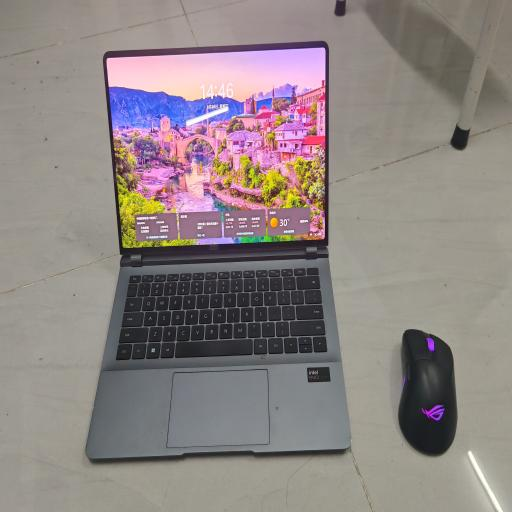laptop: (86, 42, 350, 459)
mouse: (398, 329, 458, 454)
